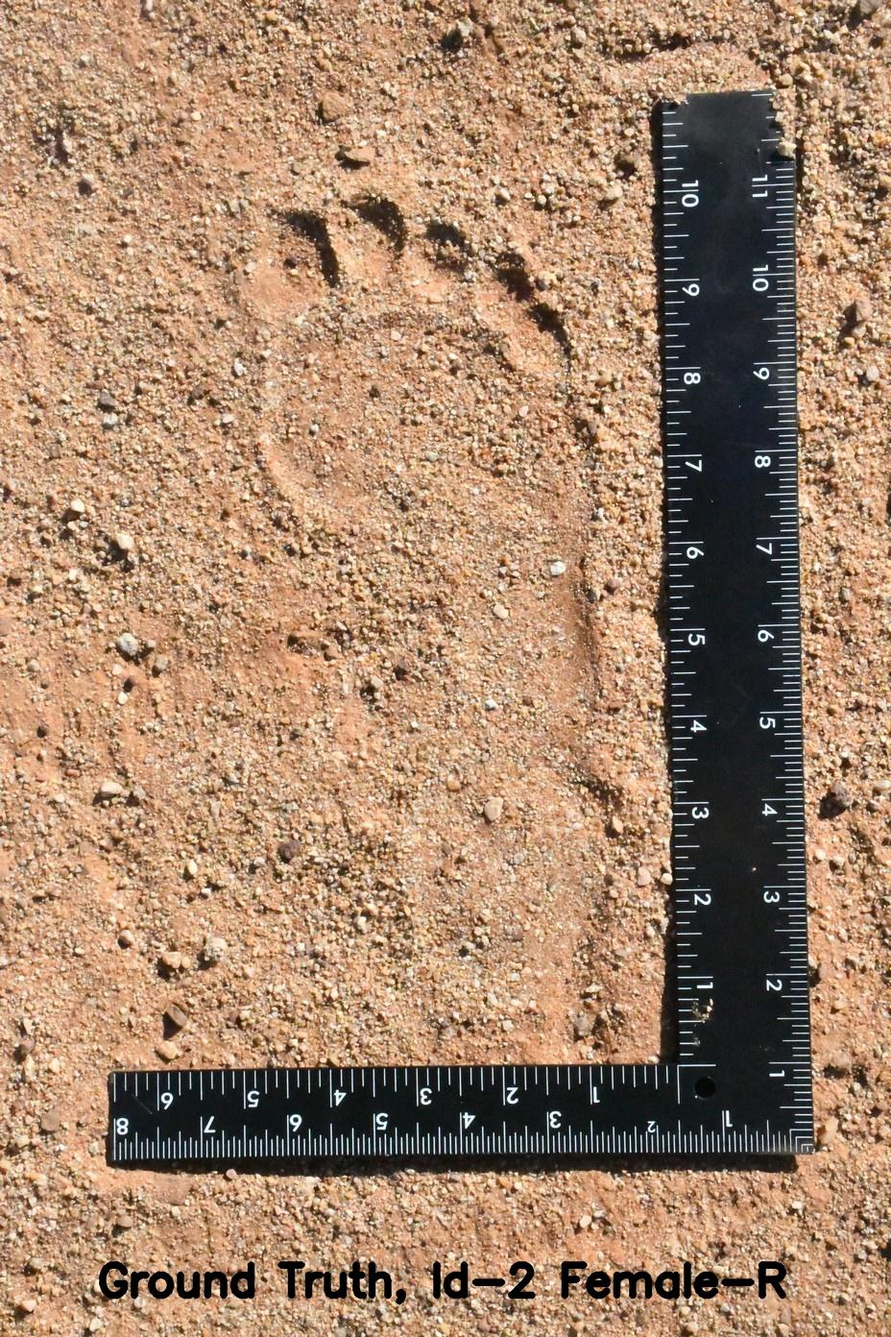human_footprint: (173, 145, 637, 1050)
